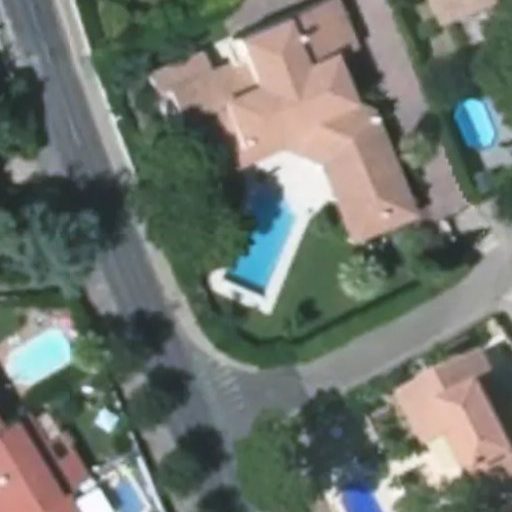pool: (221, 191, 300, 304), (8, 325, 70, 397), (449, 97, 496, 150)
